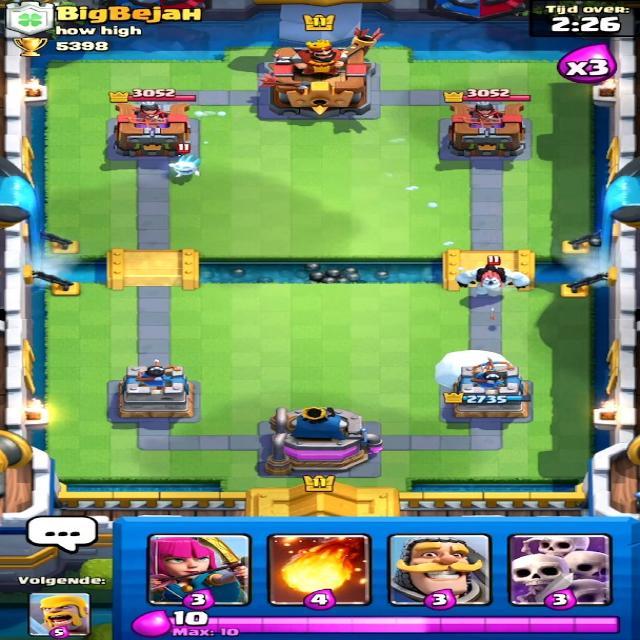Enemy_Ice_Golem_Troop: (450, 260, 536, 304)
Enemy_Ice_Spirit_Troop: (167, 153, 208, 177)
Fireball_Card: (268, 534, 372, 610)
